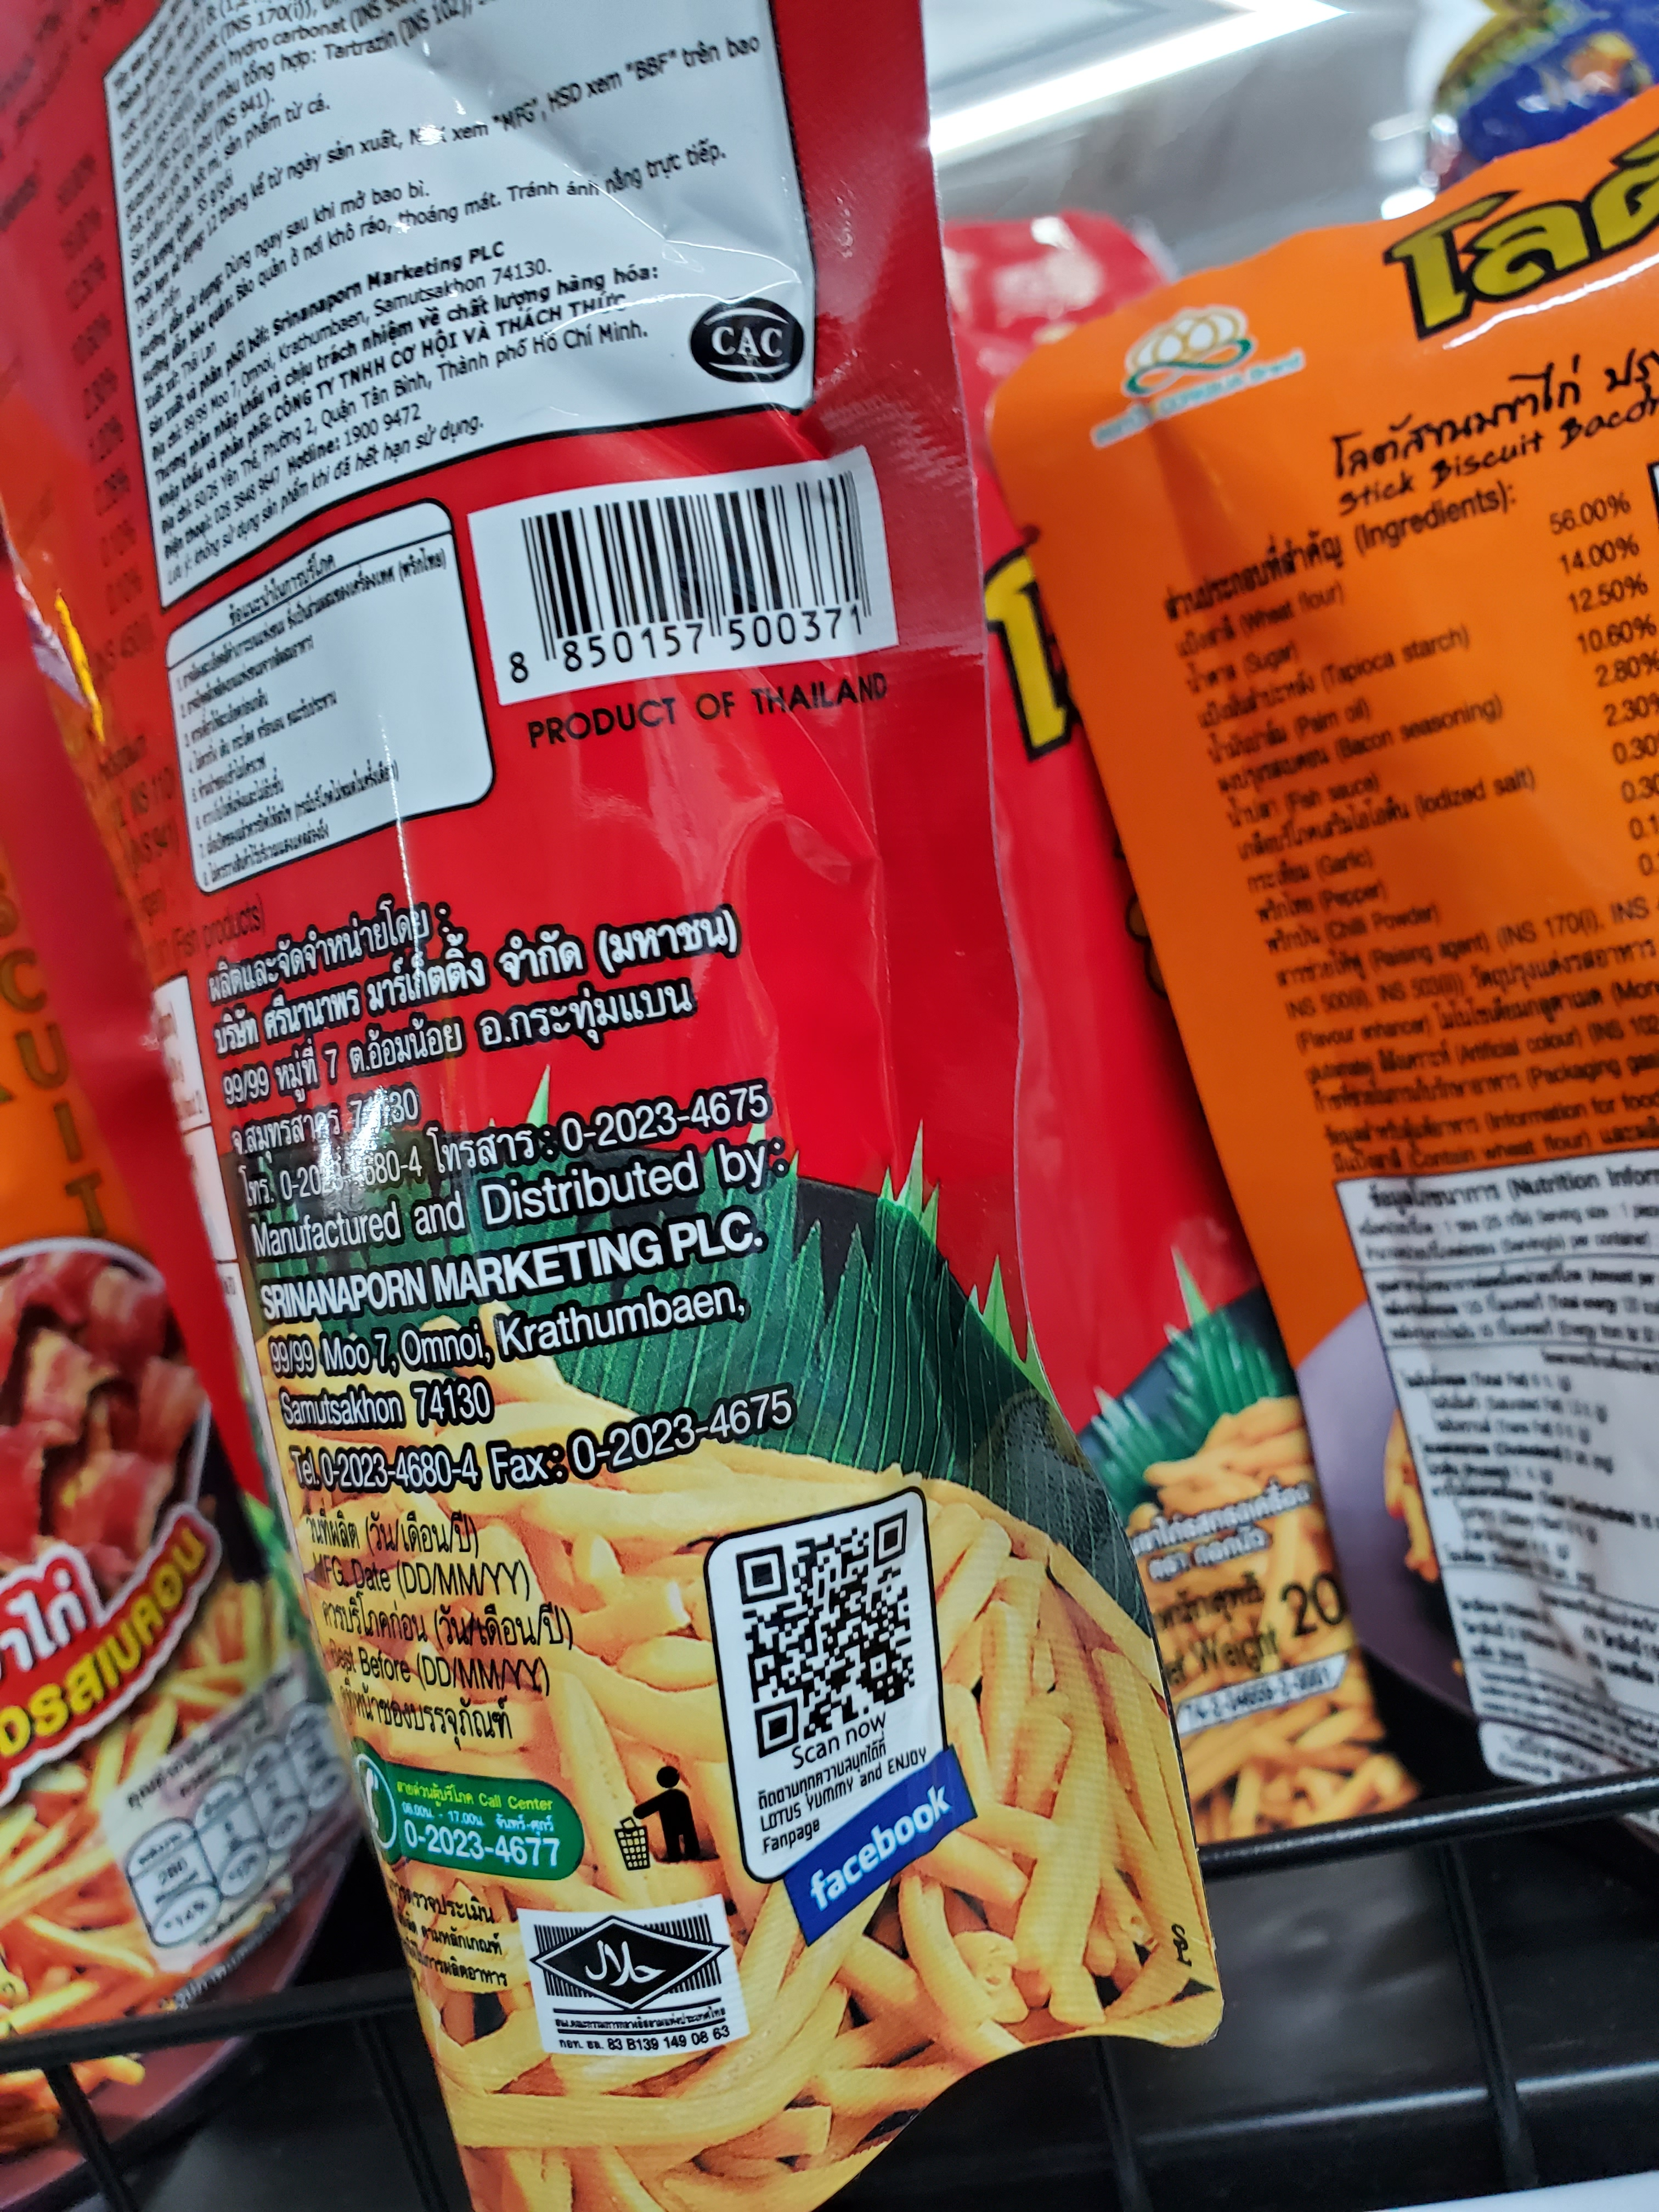barcode: (457, 444, 920, 707)
qr code: (706, 1480, 950, 1768)
